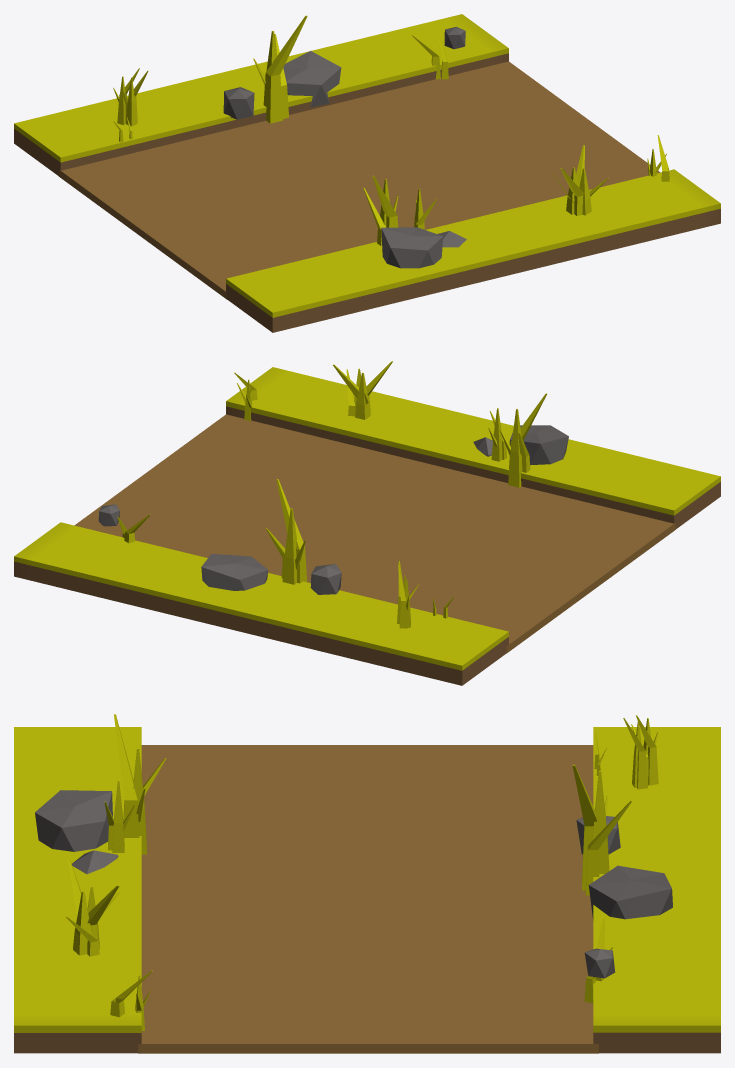
The model's file is CHEMIN 3.fbx.
3 views of the same model, one above another, from view 1: azimuth 30°, elevation 25°; view 2: azimuth 150°, elevation 25°; view 3: azimuth 270°, elevation 25° (orthographic). The views are drawn at different scales.
Visible parts, largest first — view 1: Stone_1.011; view 2: Stone_1.011; view 3: Stone_1.011.
Boxes of the visible parts, x1,y1,x2,y2 form: Stone_1.011: [14, 14, 720, 332]; Stone_1.011: [14, 361, 720, 685]; Stone_1.011: [14, 714, 720, 1053].
Size of the model in its own units: 400 by 100 by 400.
